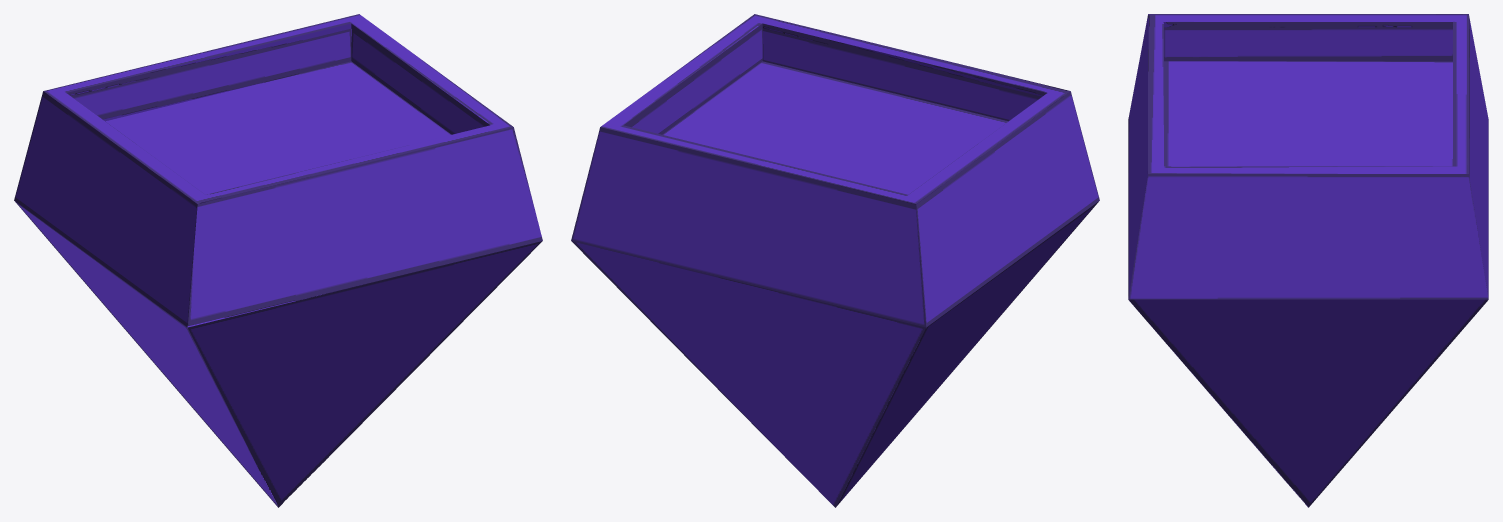
The model's file is Plat1.obj.
3 renders of one model, left to right at view 1: azimuth 30°, elevation 25°; view 2: azimuth 150°, elevation 25°; view 3: azimuth 270°, elevation 25°, orthographic. The views are drawn at different scales.
Visible parts, largest first — view 1: pCube63; view 2: pCube63; view 3: pCube63.
Boxes of the visible parts, bbox=[...] form: pCube63: bbox=[14, 14, 542, 507]; pCube63: bbox=[571, 14, 1099, 507]; pCube63: bbox=[1128, 14, 1488, 507].
Size of the model in its own units: 4.21 by 4.52 by 3.57.
1 material, 1 textured.
